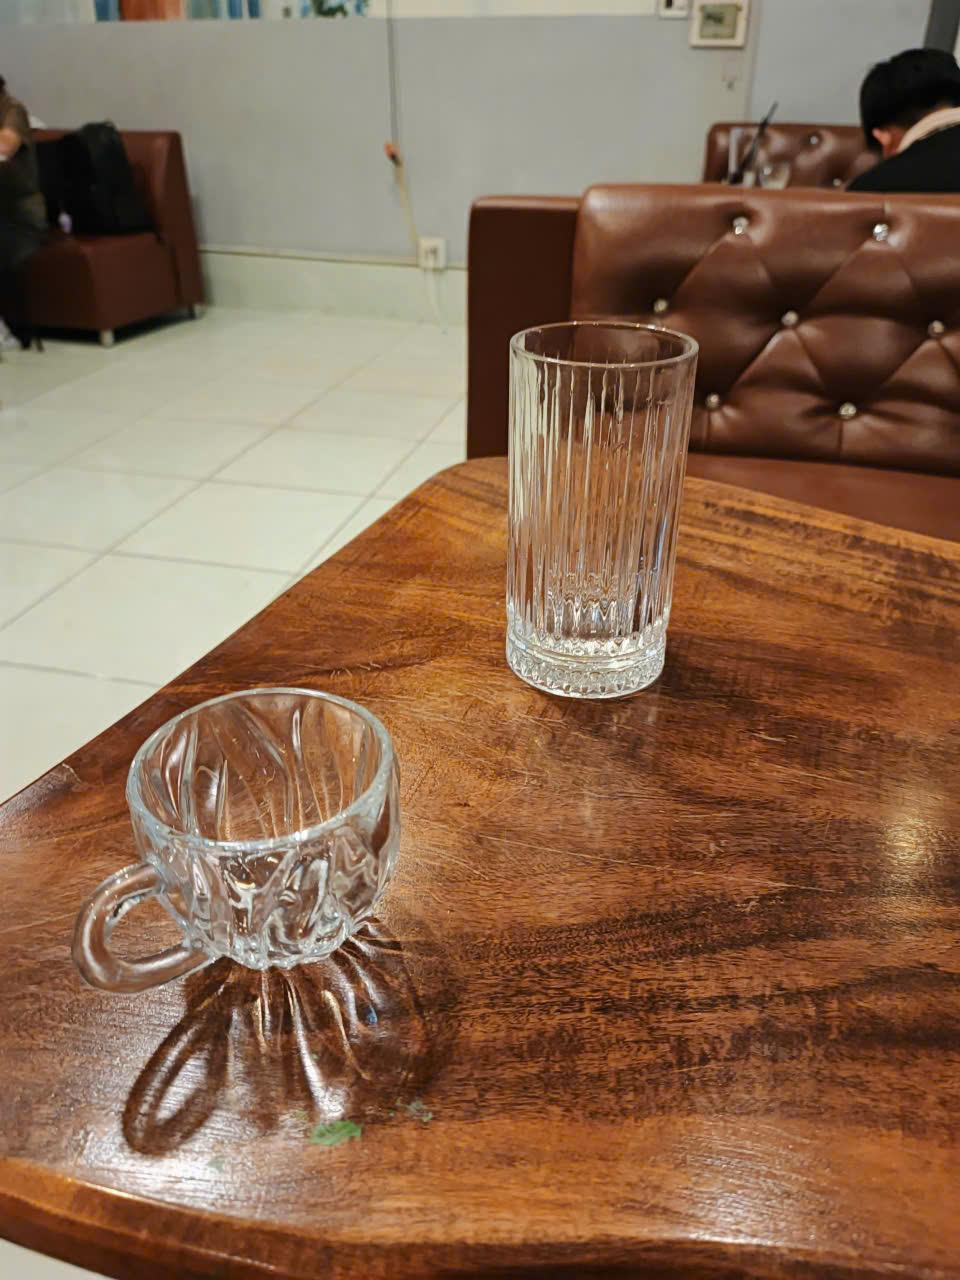Vo co: (80, 690, 400, 991), (507, 318, 696, 702)
